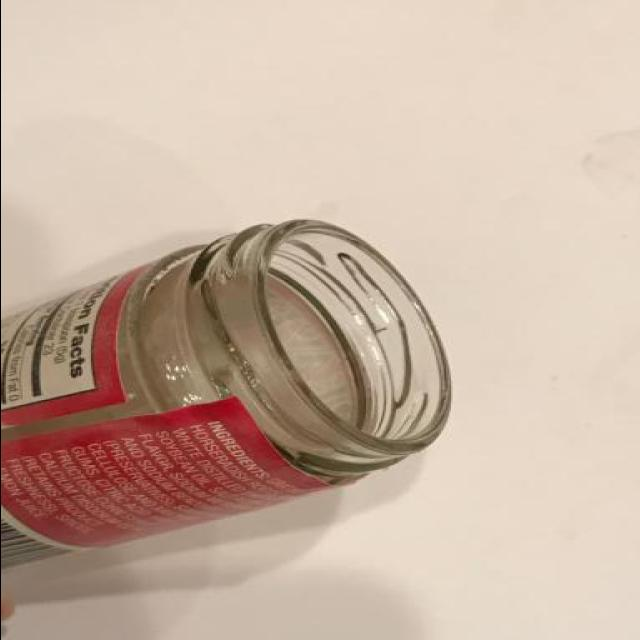glass: (0, 213, 461, 568)
